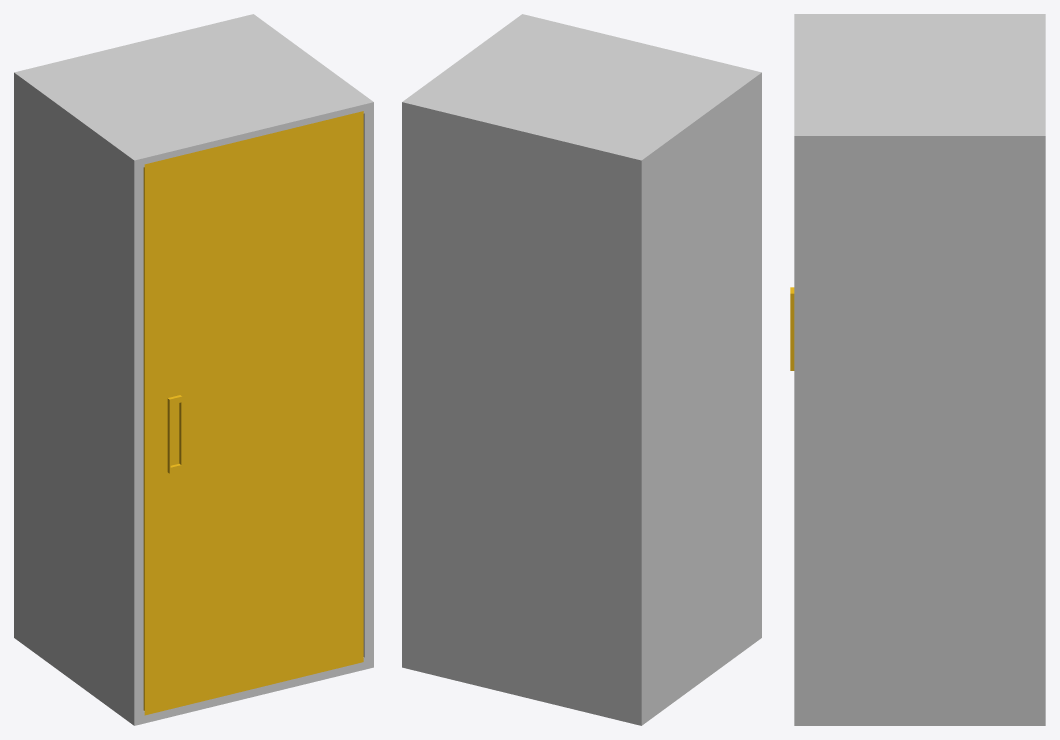
Rendered from Loker5.fbx.
3 renders of one model, left to right at view 1: azimuth 30°, elevation 25°; view 2: azimuth 150°, elevation 25°; view 3: azimuth 270°, elevation 25°, orthographic. The views are drawn at different scales.
Visible parts, largest first — view 1: Cube.004; view 2: Cube.004; view 3: Cube.004.
Part boxes in pixels (x1,y1,x2,y2): Cube.004: (14, 14, 373, 725); Cube.004: (402, 14, 761, 725); Cube.004: (790, 14, 1045, 725).
Size of the model in its own units: 88.68 by 200 by 78.45.
